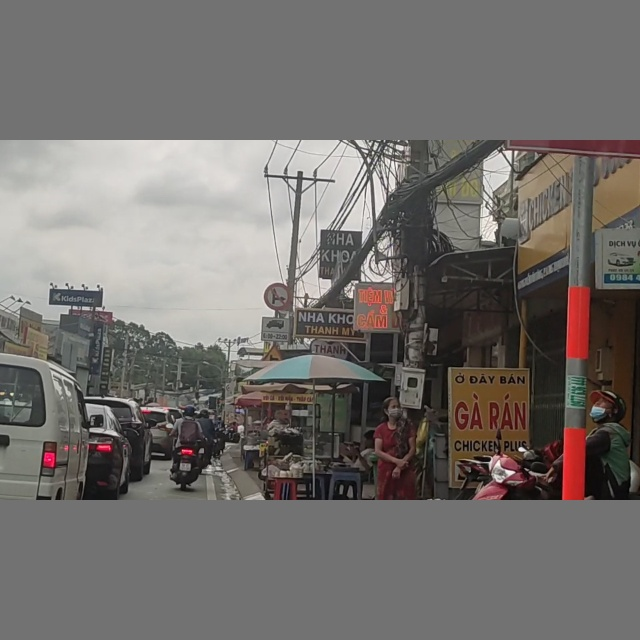P.139: (265, 282, 294, 311)
S.505a*Xe tai: (262, 316, 293, 339)
W.205b: (258, 348, 295, 362)
